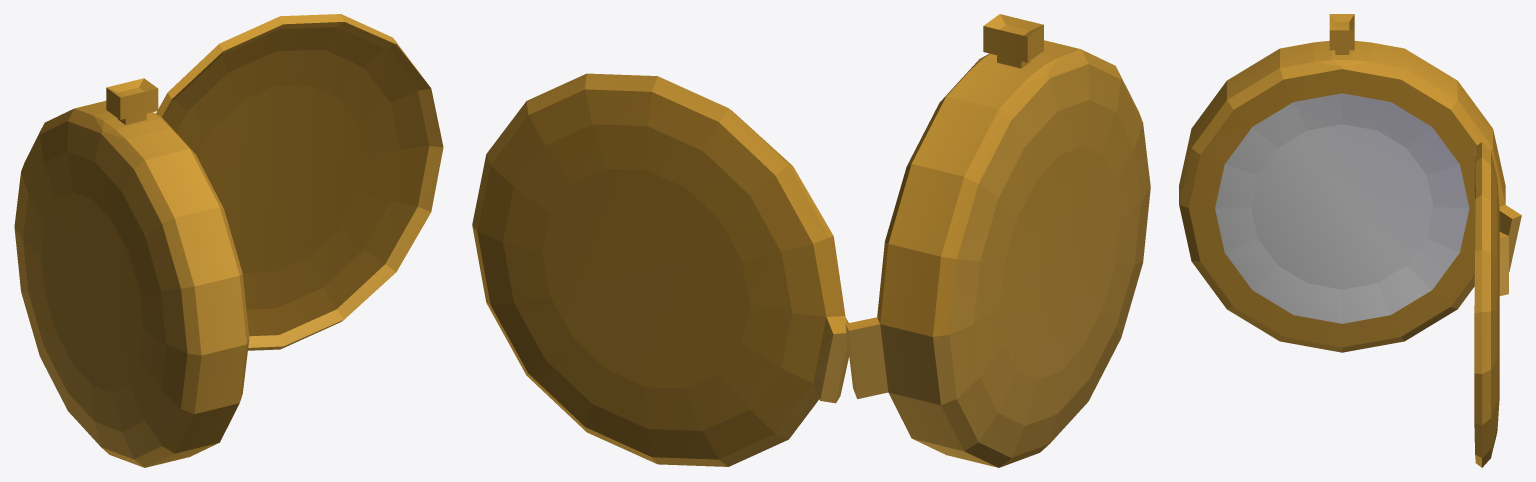
Rendered from Door Stopwatch wizards table clutterT1.fbx.
The picture shows the model from 3 angles, left to right: view 1: azimuth 30°, elevation 25°; view 2: azimuth 150°, elevation 25°; view 3: azimuth 270°, elevation 25°; orthographic projection. The views are drawn at different scales.
Visible parts, largest first — view 1: FrMaz Pocketwatch body, FrMaz Pocketwatch Door; view 2: FrMaz Pocketwatch Door, FrMaz Pocketwatch body; view 3: FrMaz Pocketwatch body, FrMaz Pocketwatch Door.
Part boxes in pixels (bbox=[...]): FrMaz Pocketwatch body: bbox=[14, 78, 249, 467]; FrMaz Pocketwatch Door: bbox=[156, 14, 443, 350]; FrMaz Pocketwatch Door: bbox=[472, 73, 849, 466]; FrMaz Pocketwatch body: bbox=[845, 14, 1150, 467]; FrMaz Pocketwatch body: bbox=[1179, 14, 1521, 352]; FrMaz Pocketwatch Door: bbox=[1474, 142, 1508, 467].
Size of the model in its own units: 1070 by 899 by 840.
